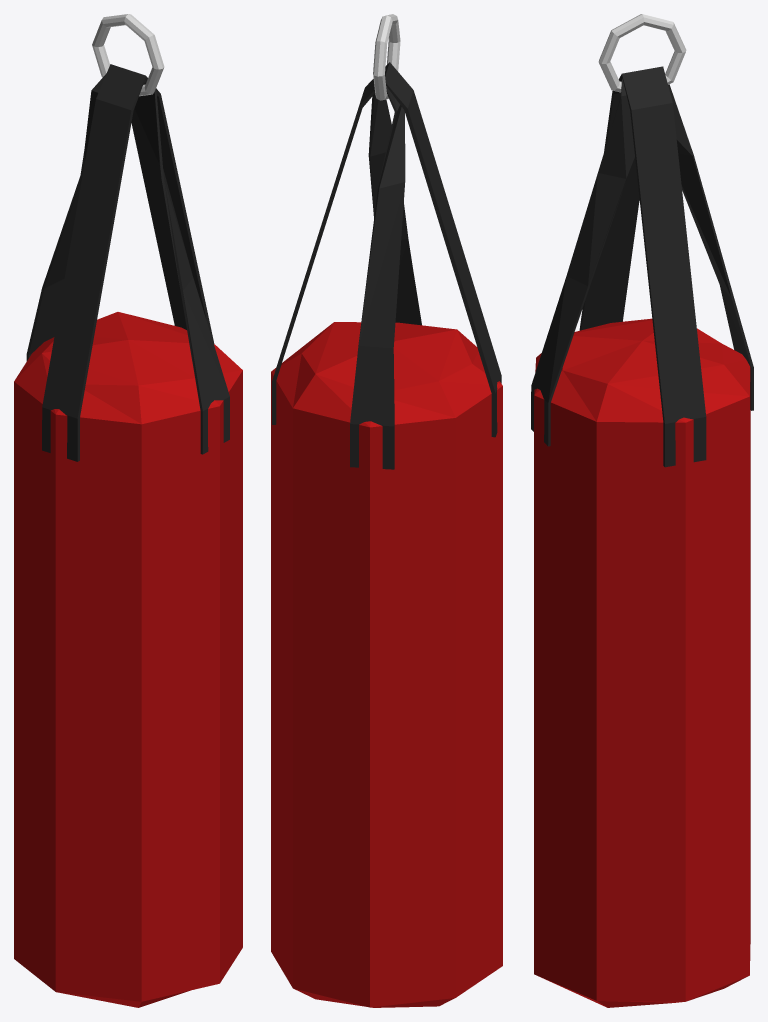
Rendered from sandbag.gltf.
The picture shows the model from 3 angles, left to right: view 1: azimuth 30°, elevation 25°; view 2: azimuth 150°, elevation 25°; view 3: azimuth 270°, elevation 25°; orthographic projection.
Visible parts, largest first — view 1: Object_6, Object_5, Object_4; view 2: Object_6, Object_5, Object_4; view 3: Object_6, Object_5, Object_4.
Part boxes in pixels (<box>): Object_6: <box>14,312,242,1007</box>; Object_5: <box>26,64,229,461</box>; Object_4: <box>92,14,164,96</box>; Object_6: <box>271,322,502,1007</box>; Object_5: <box>272,62,501,469</box>; Object_4: <box>373,14,400,100</box>; Object_6: <box>534,318,750,1007</box>; Object_5: <box>531,66,753,467</box>; Object_4: <box>598,14,686,92</box>.
Bounding box in the file's own units: 1 × 4.74 × 0.9908.
